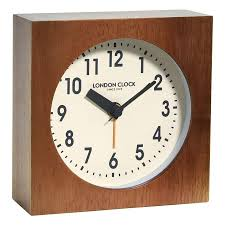alarm_clock: (7, 8, 211, 215)
